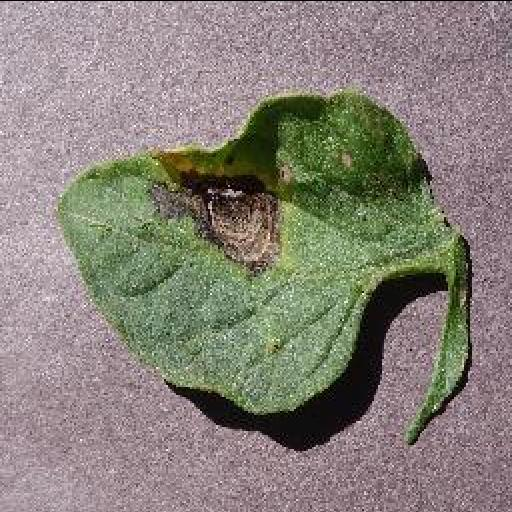Early Blight: (53, 85, 451, 414)
